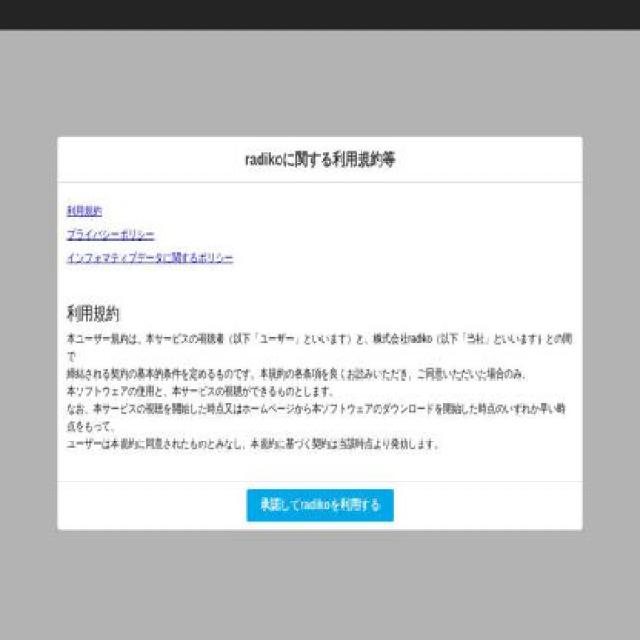button: (246, 489, 394, 522)
